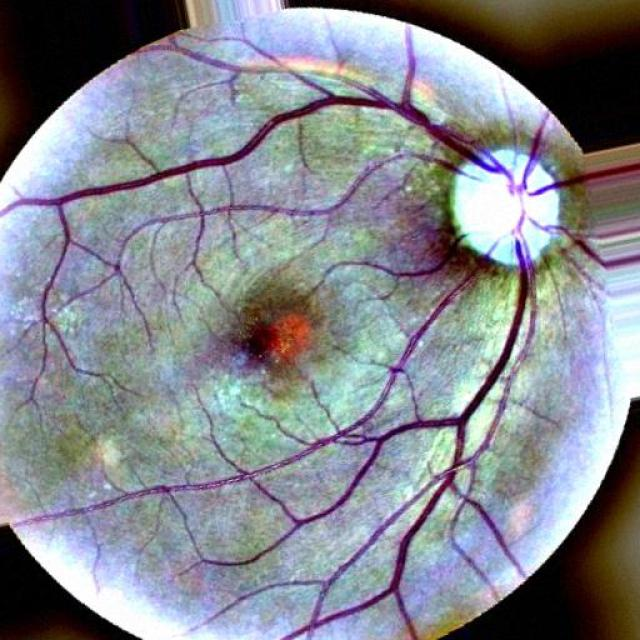Macula: (228, 286, 325, 385)
Nerves: (41, 260, 485, 523), (301, 234, 532, 624), (64, 87, 503, 215)
Optic Disk: (445, 148, 565, 270)
